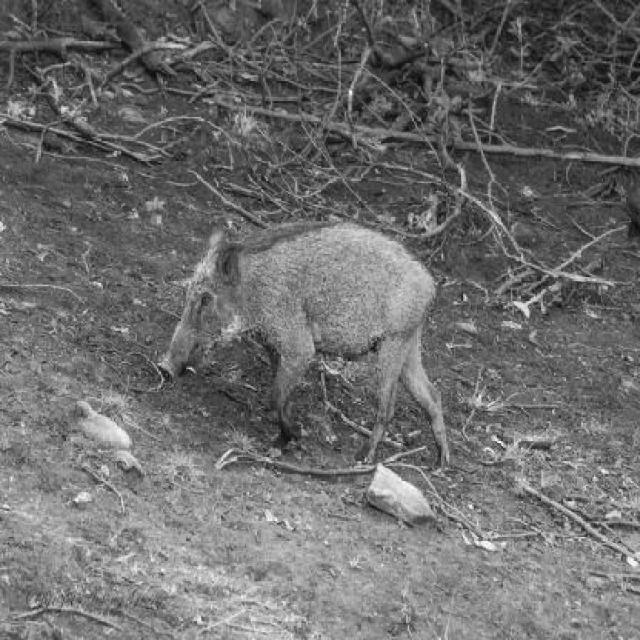Boar: (157, 215, 451, 474)
